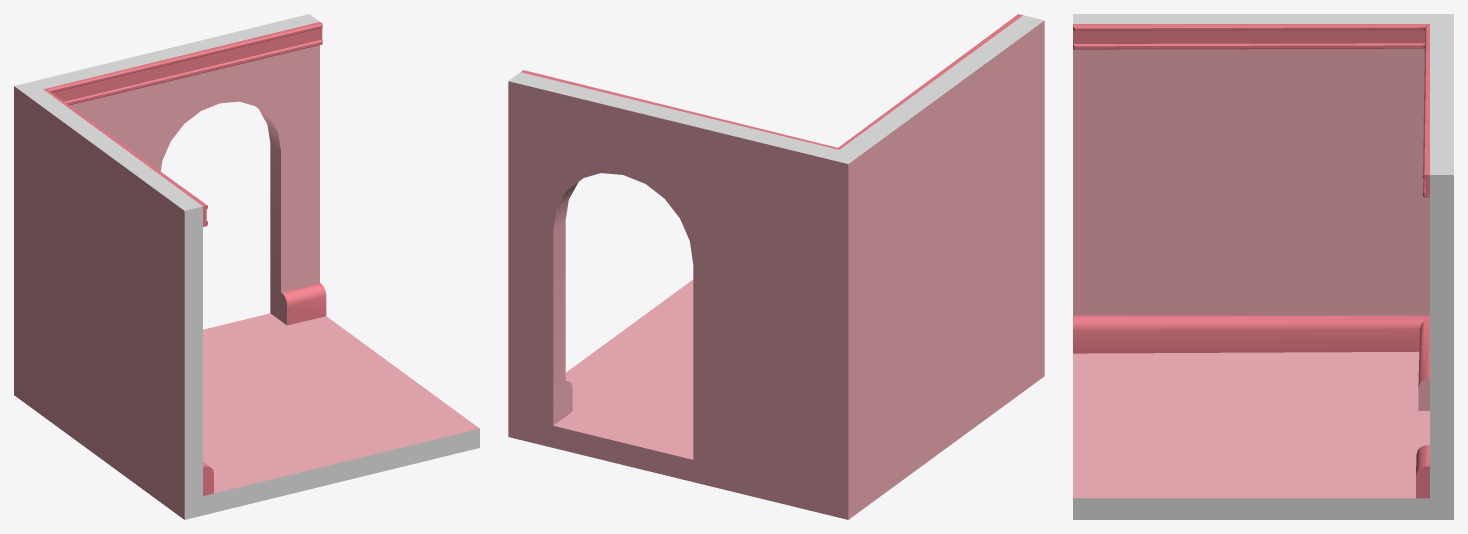
Rendered from wall_pink.fbx.
3 renders of one model, left to right at view 1: azimuth 30°, elevation 25°; view 2: azimuth 150°, elevation 25°; view 3: azimuth 270°, elevation 25°, orthographic. The views are drawn at different scales.
Parts seen in each view (by area): view 1: Cube; view 2: Cube; view 3: Cube.
Part boxes in pixels (x1,y1,x2,y2): Cube: [14, 14, 479, 519]; Cube: [508, 14, 1044, 519]; Cube: [1073, 14, 1453, 519].
Size of the model in its own units: 800 by 800 by 800.
